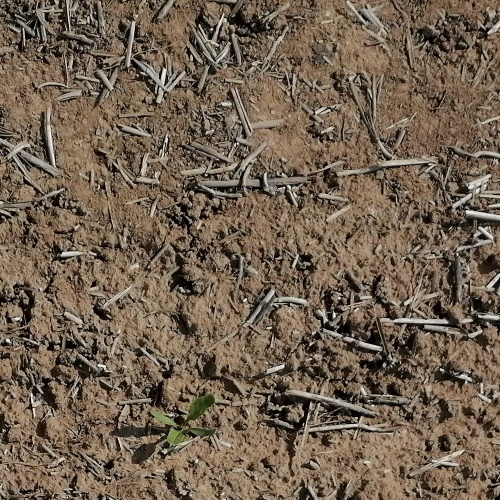beet: (149, 395, 216, 448)
